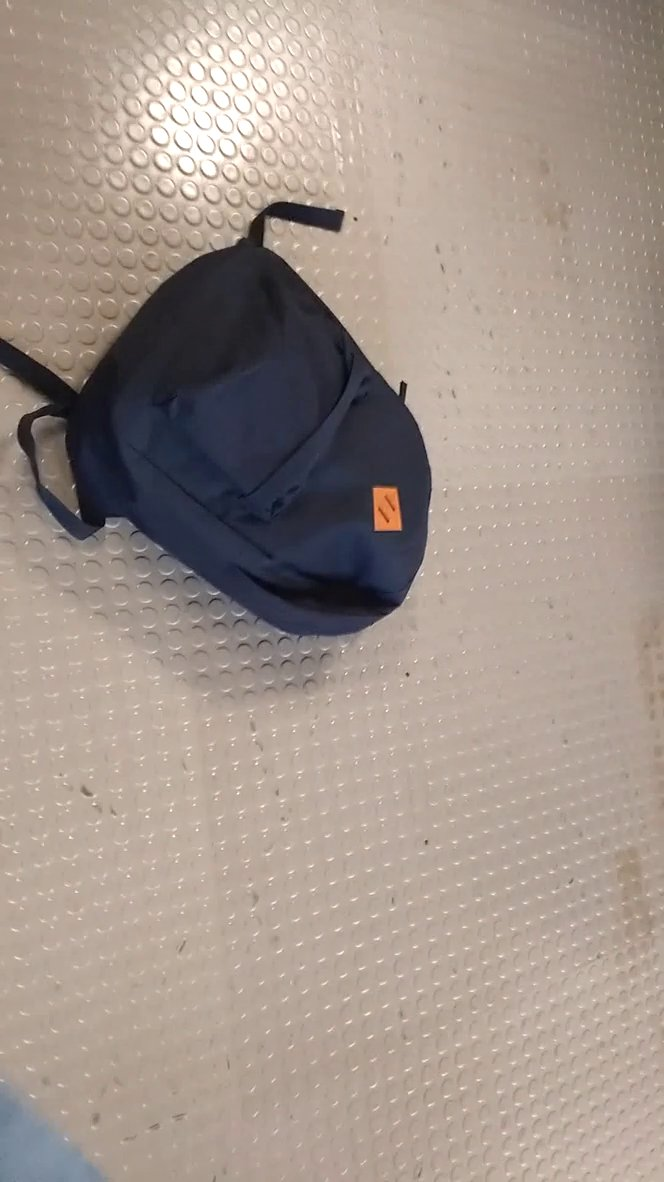bag: (4, 152, 469, 639)
